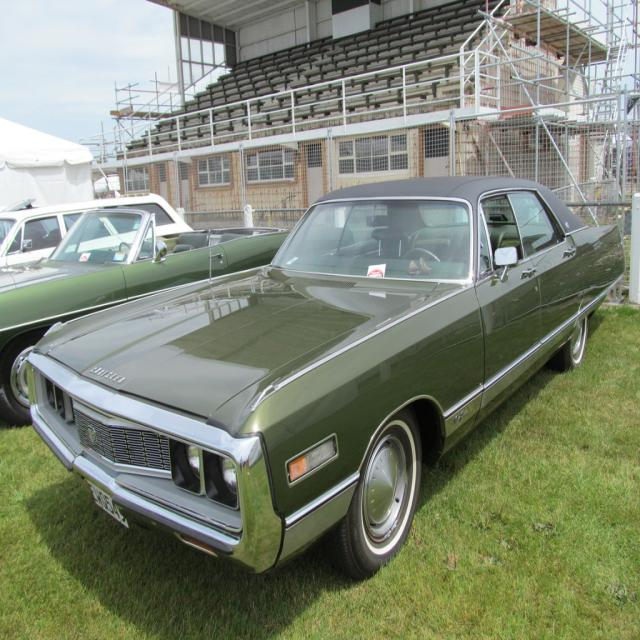car: (23, 174, 626, 579)
